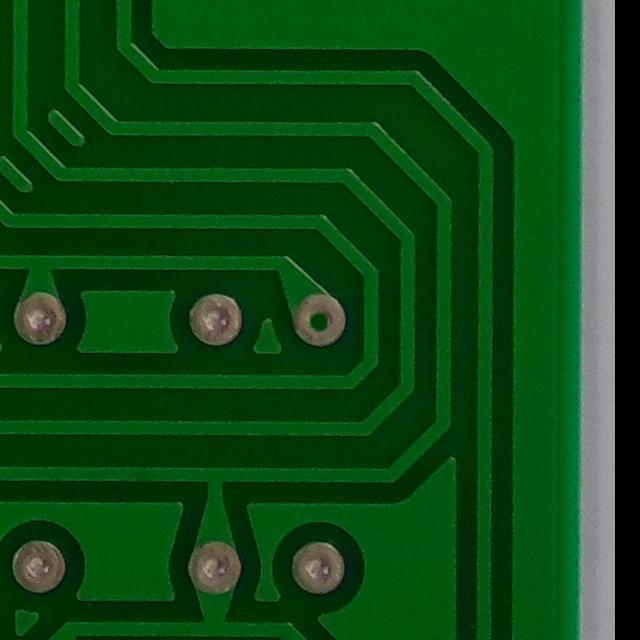missing_hole: (288, 287, 352, 359)
